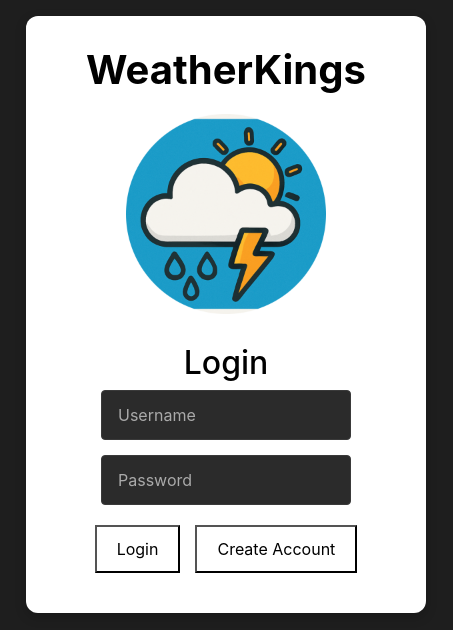
Test: App Component Tests › navigates to CreateAccount when "Create Account" button is clicked
Click the button "Create Account": click(276, 549) [195, 525, 357, 573]
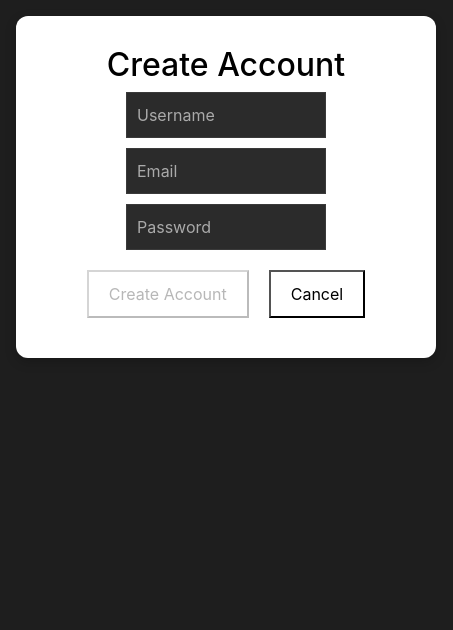
expect the heading "Create Account" is shown: met, box [107, 45, 345, 84]
